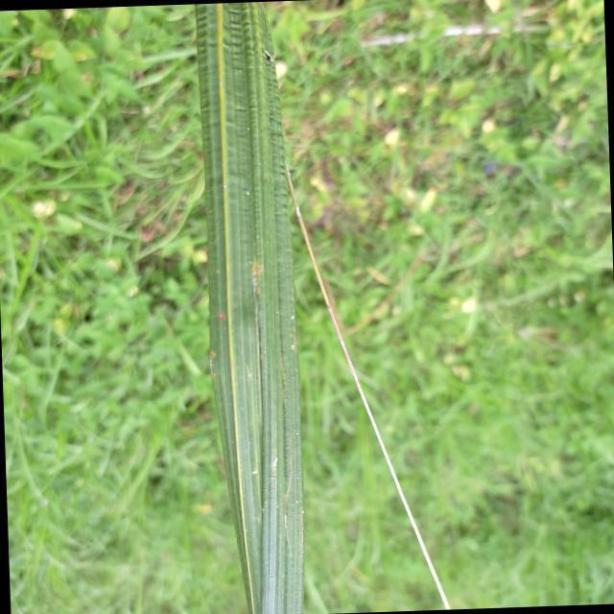Boron: (195, 0, 305, 614)
